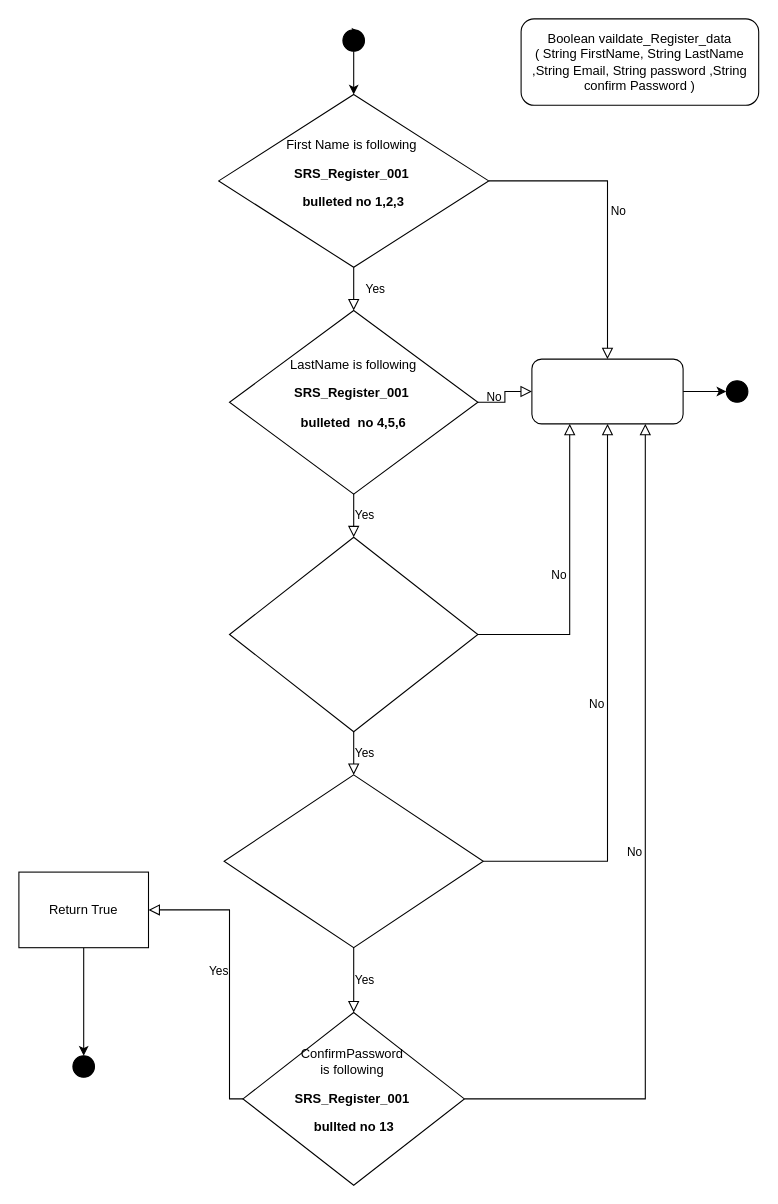
Image size: 778x1204. Some labels were removed from this diagram. The shapes that lost their labels are listed below. From the top down, each one's centre as x and y in pixels, then its label:
the point at 607,391: Return False
the point at 353,634: Email is following SRS_Register_001 bulleted no 7,8
the point at 353,861: Paasword is following SRS_Register_001 bulleted no 9,10,11,12
